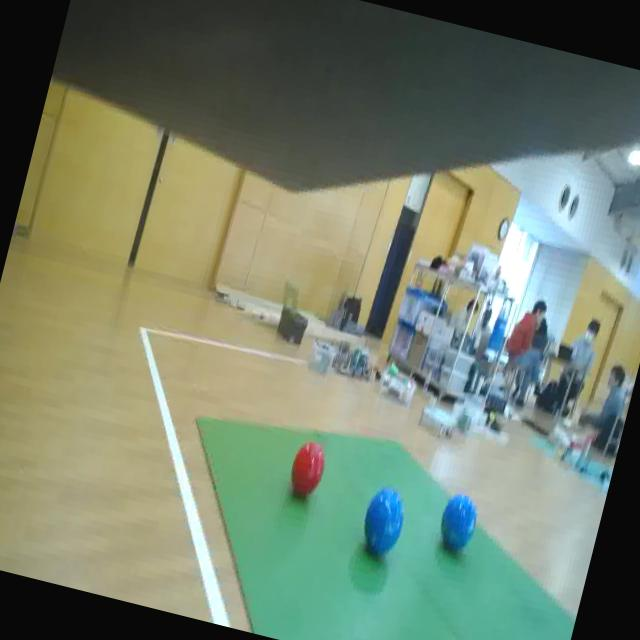blue_ball: (354, 478, 413, 565), (429, 482, 486, 568)
red_ball: (283, 430, 332, 506)
